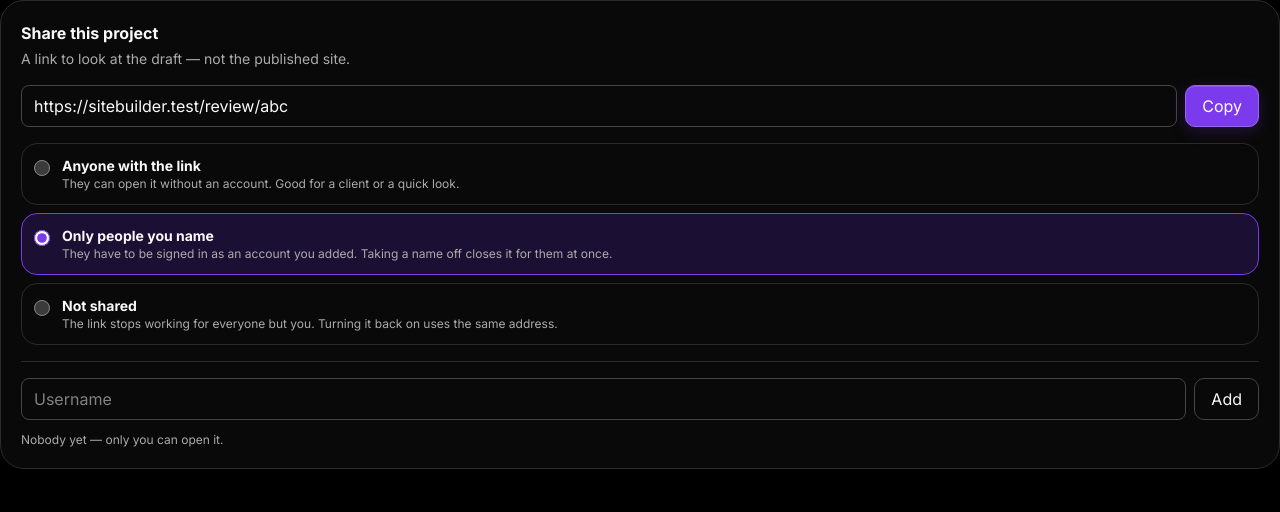
Test: the owner choosing who gets in › adds a person by username and lists them
Type "bob" into the field named "Add someone by username". click: (604, 399)
box: left=21, top=378, right=1186, bottom=420
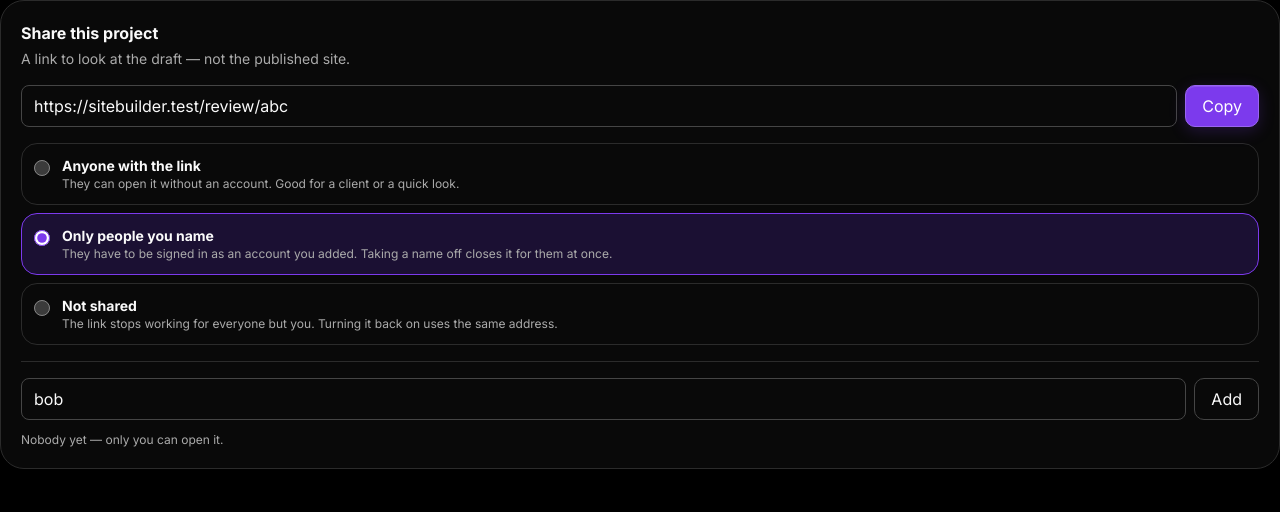
Click the button "Add". click: (1227, 399)
box: left=1194, top=378, right=1259, bottom=420
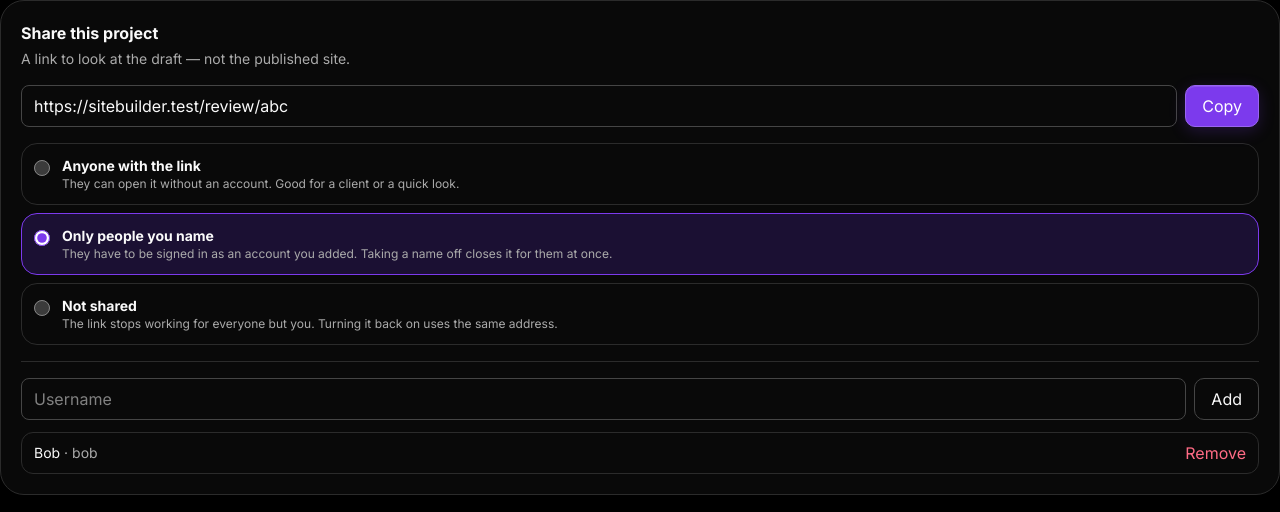
expect the text "Bob · bob" is shown: met, box left=34, top=443, right=98, bottom=463
